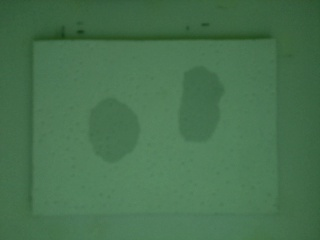Water_detected: (89, 100, 139, 162), (179, 76, 219, 141)
